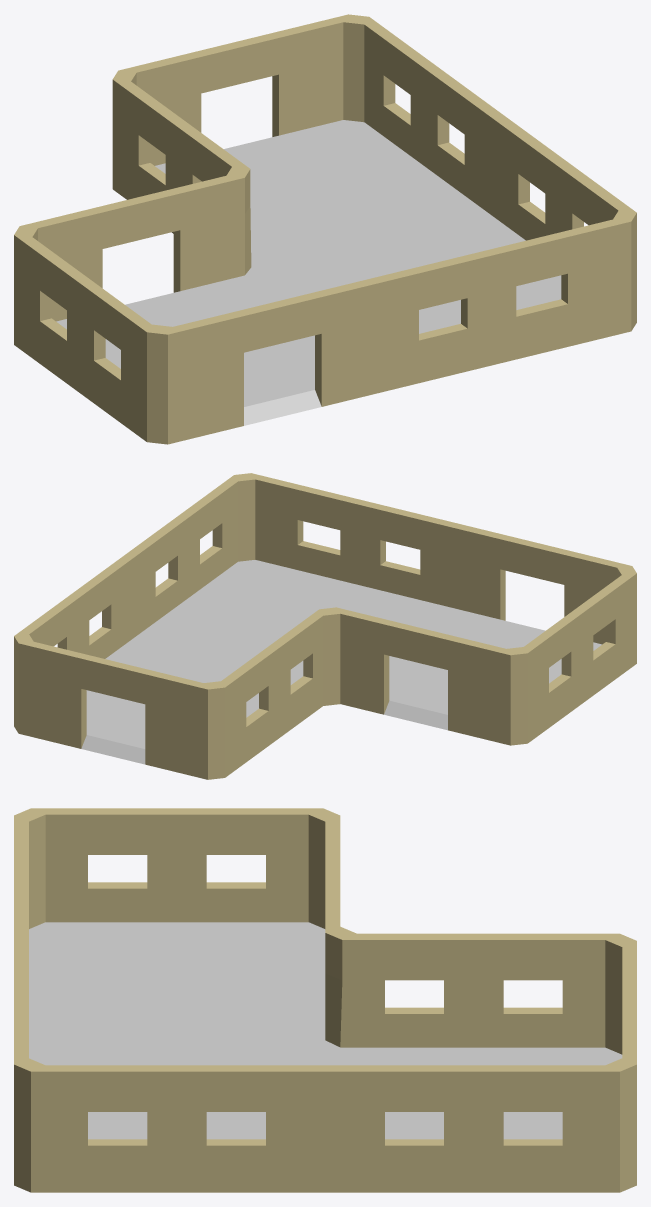
Rendered from 20x20Lhouse.fbx.
3 views of the same model, one above another, from view 1: azimuth 30°, elevation 25°; view 2: azimuth 150°, elevation 25°; view 3: azimuth 270°, elevation 25° (orthographic). The views are drawn at different scales.
Visible parts, largest first — view 1: 10x20house.001; view 2: 10x20house.001; view 3: 10x20house.001.
Boxes of the visible parts, left/top/right/bottom form: 10x20house.001: left=14, top=14, right=636, bottom=444; 10x20house.001: left=14, top=473, right=636, bottom=779; 10x20house.001: left=14, top=808, right=636, bottom=1192.
Size of the model in its own units: 2100 by 450 by 2100.
